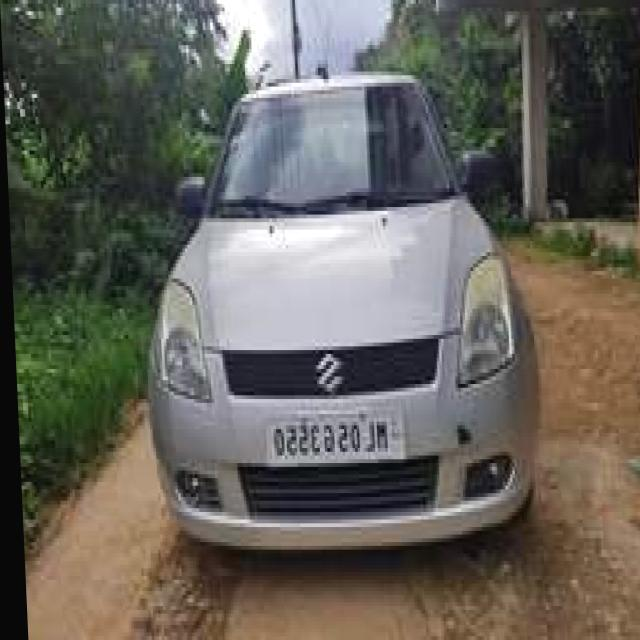plate: (260, 410, 403, 467)
